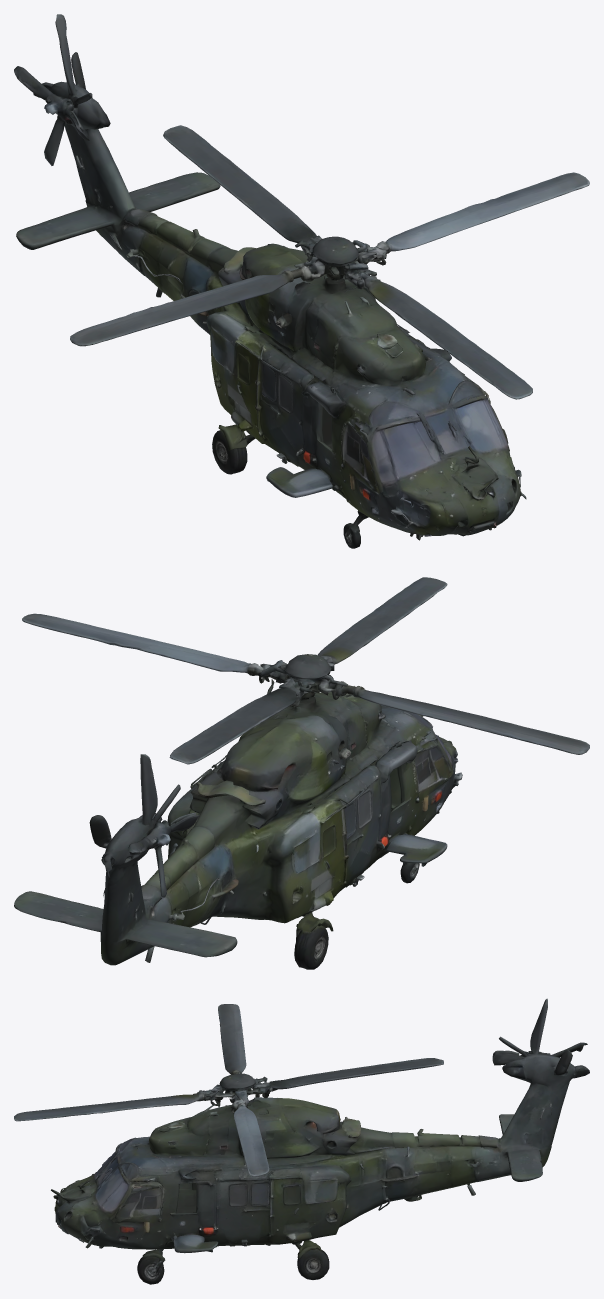
File: bora.glb
3 views of the same model, one above another, from view 1: azimuth 30°, elevation 25°; view 2: azimuth 150°, elevation 25°; view 3: azimuth 270°, elevation 25° (orthographic). The views are drawn at different scales.
Parts seen in each view (by area): view 1: tripo_node_63e51c1e-4cf8-4ba4-a1f1-143ab332d44d; view 2: tripo_node_63e51c1e-4cf8-4ba4-a1f1-143ab332d44d; view 3: tripo_node_63e51c1e-4cf8-4ba4-a1f1-143ab332d44d.
Boxes of the visible parts, <box> form: tripo_node_63e51c1e-4cf8-4ba4-a1f1-143ab332d44d: <box>14,14,589,548</box>; tripo_node_63e51c1e-4cf8-4ba4-a1f1-143ab332d44d: <box>14,577,589,969</box>; tripo_node_63e51c1e-4cf8-4ba4-a1f1-143ab332d44d: <box>14,998,589,1284</box>.
Bounding box in the file's own units: 0.7551 × 0.4644 × 1.
1 material, 1 textured.
